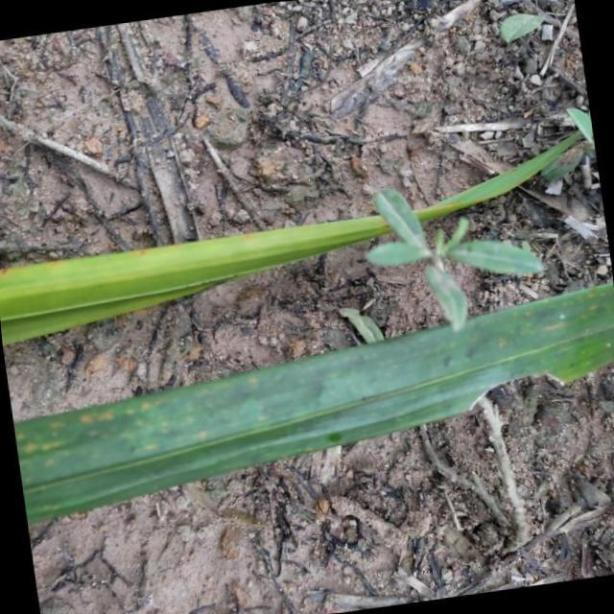nitrogen: (3, 168, 614, 348)
